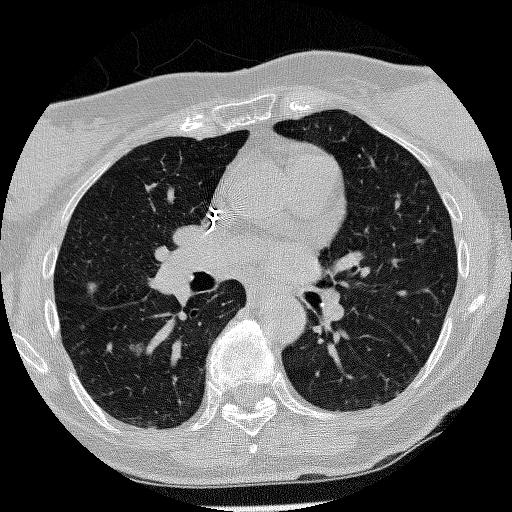nodule: (85, 280, 99, 294)
